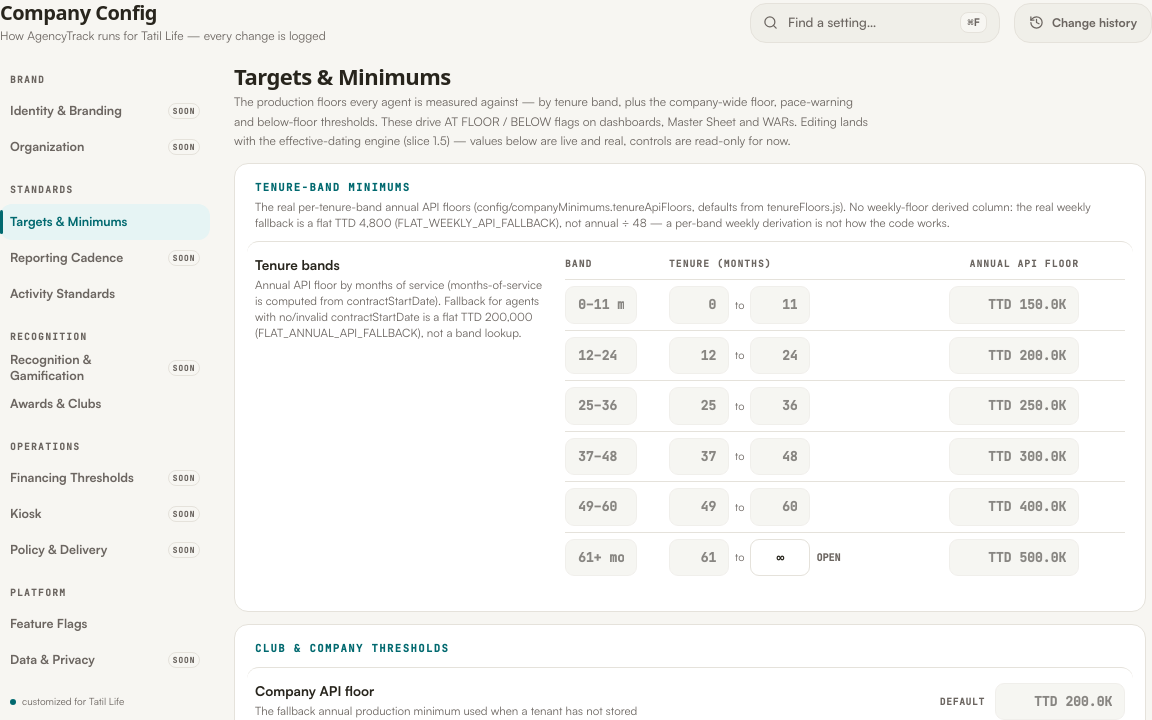
CompanyConfigSurface — smoke › palette preview shows the real value for a locked (platform) setting
Click the button with test id "ccfg-find-button" at point(875, 22), box [750,2,1000,42]
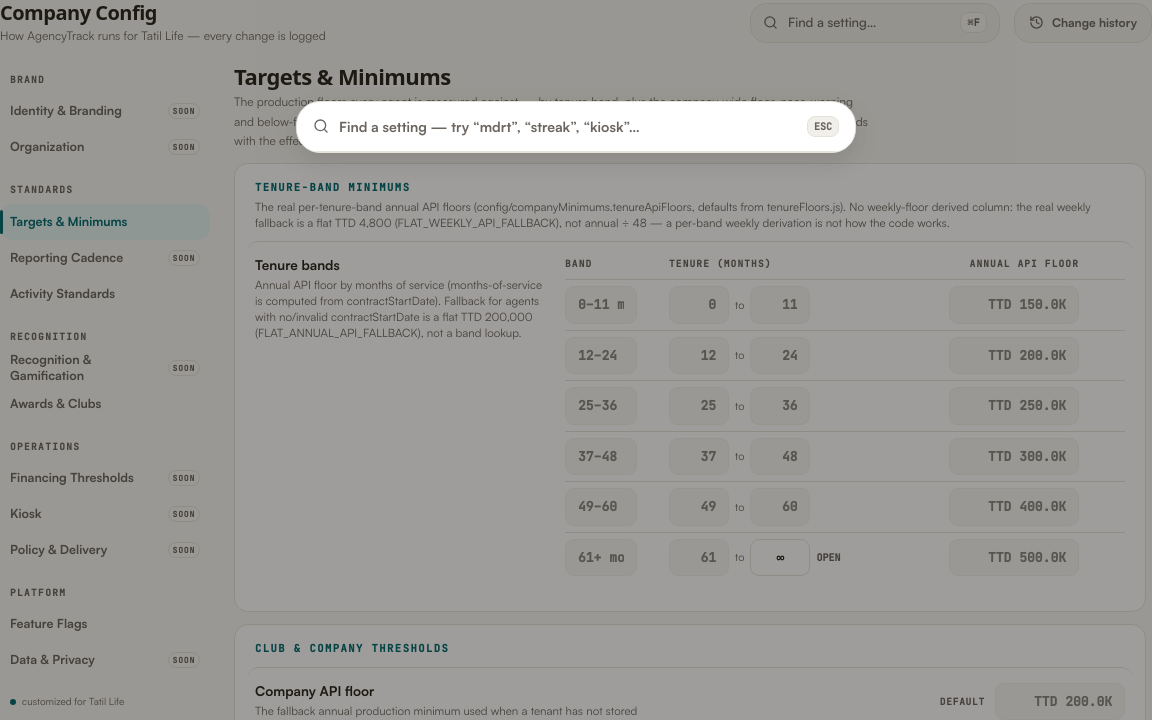
// aw.basis is lock:'platform' with literal value 'SETTLED API ONLY'.
Type "Qualification basis" into the field with test id "ccfg-palette-input" at point(568, 126), box [339,116,797,137]
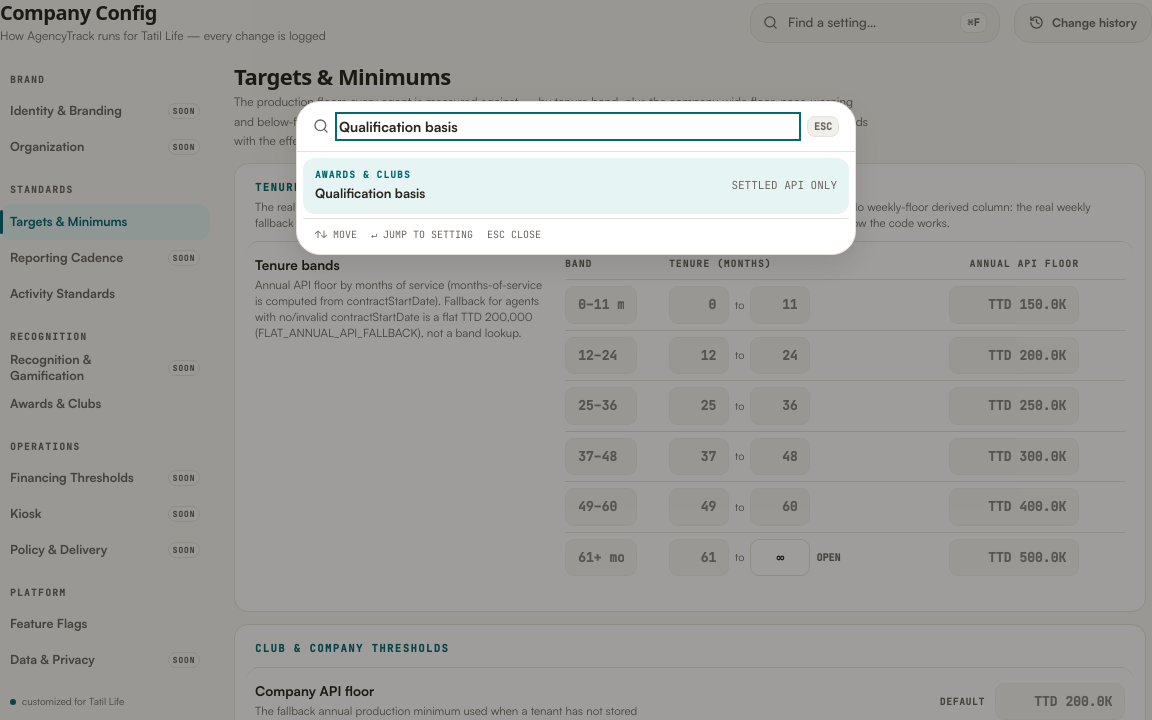
Expected: the number of buttons with test id "ccfg-palette-result" is 1, [303,158,849,214]
Expected: the button with test id "ccfg-palette-result" shows "SETTLED API ONLY", [303,158,849,214]
